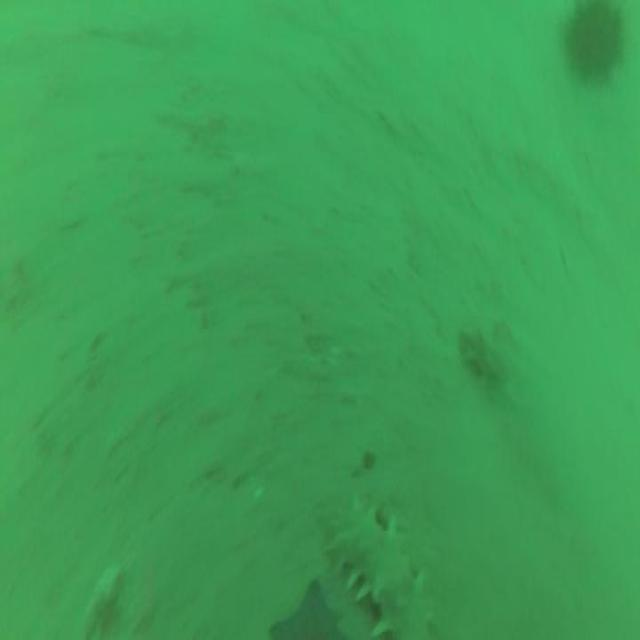echinus: (565, 6, 617, 79)
holothurian: (331, 512, 431, 640), (463, 326, 499, 390)
